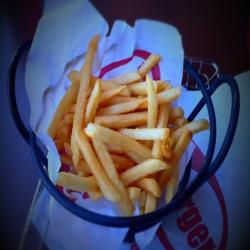fries: (33, 54, 204, 226)
